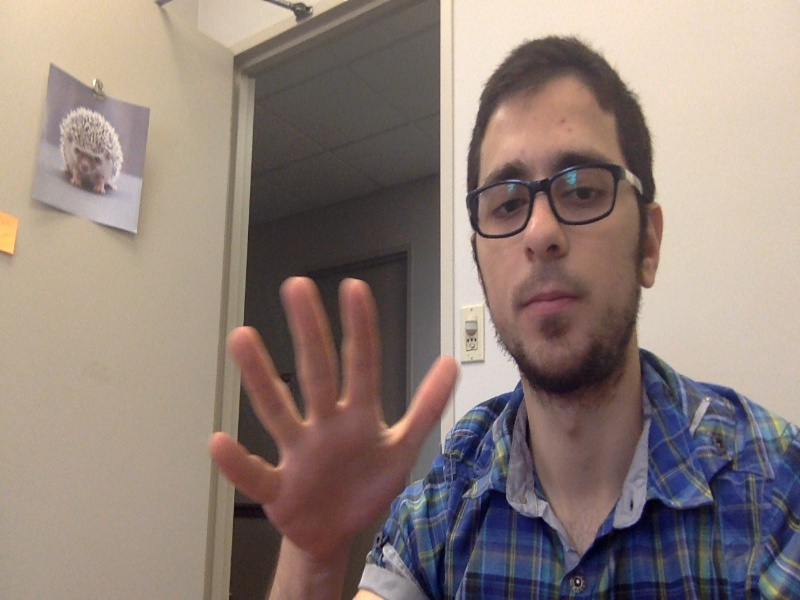5-hand: (204, 273, 463, 551)
